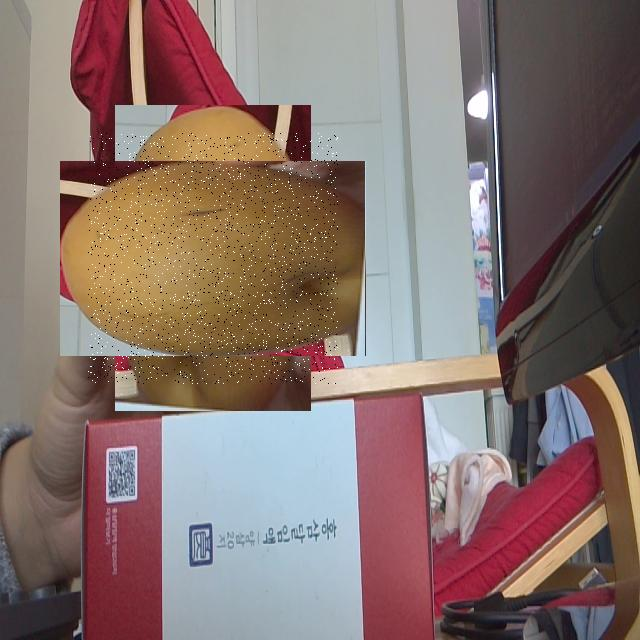pear: (88, 133, 338, 384)
